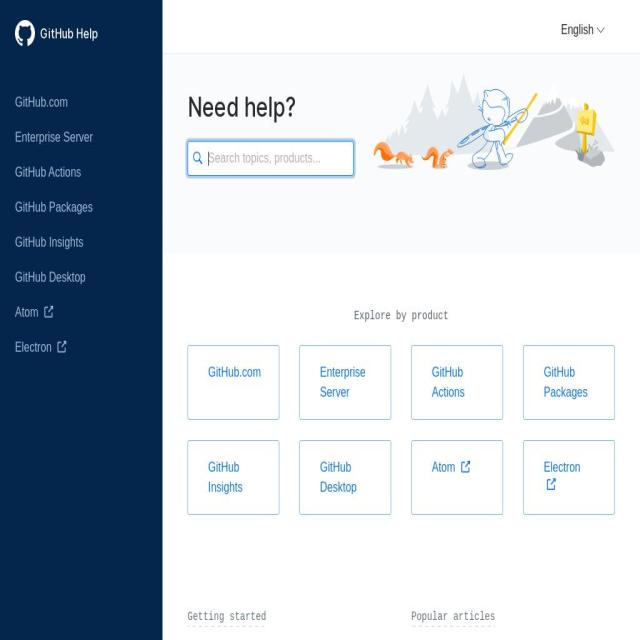button: (299, 345, 392, 420), (299, 440, 392, 515), (188, 345, 280, 420), (411, 345, 503, 420), (523, 345, 615, 420), (188, 440, 280, 515), (411, 440, 503, 515), (523, 440, 615, 515), (0, 86, 162, 118), (0, 121, 162, 153), (0, 156, 162, 188), (0, 191, 162, 223), (0, 226, 162, 258), (0, 261, 162, 293), (0, 296, 162, 328), (0, 331, 162, 363), (35, 24, 147, 44), (560, 13, 606, 47)
field: (188, 141, 354, 176)
heading: (187, 307, 615, 325), (188, 88, 354, 128), (411, 610, 495, 623), (188, 610, 266, 623)
image: (374, 71, 615, 171), (43, 305, 54, 318), (460, 460, 471, 473), (546, 477, 556, 491), (57, 340, 67, 353), (596, 27, 605, 33)
text: (560, 20, 594, 40), (15, 340, 54, 354), (544, 460, 580, 474), (15, 305, 41, 319), (432, 460, 458, 474)
